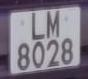0: (31, 39, 47, 72)
2: (45, 38, 61, 70)
8: (16, 41, 32, 74), (59, 36, 75, 68)
L: (28, 9, 47, 42)
M: (45, 9, 63, 41)
